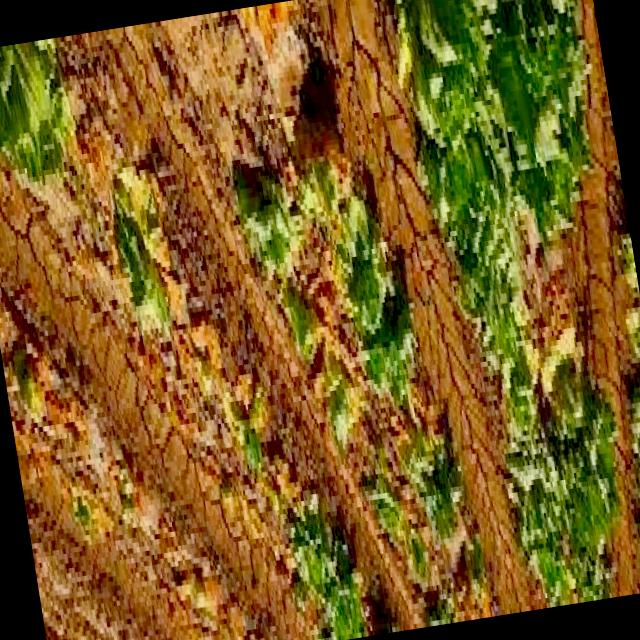Wilt_and_leaf_blight_on_lettuce: (232, 106, 419, 436), (496, 208, 583, 390)
